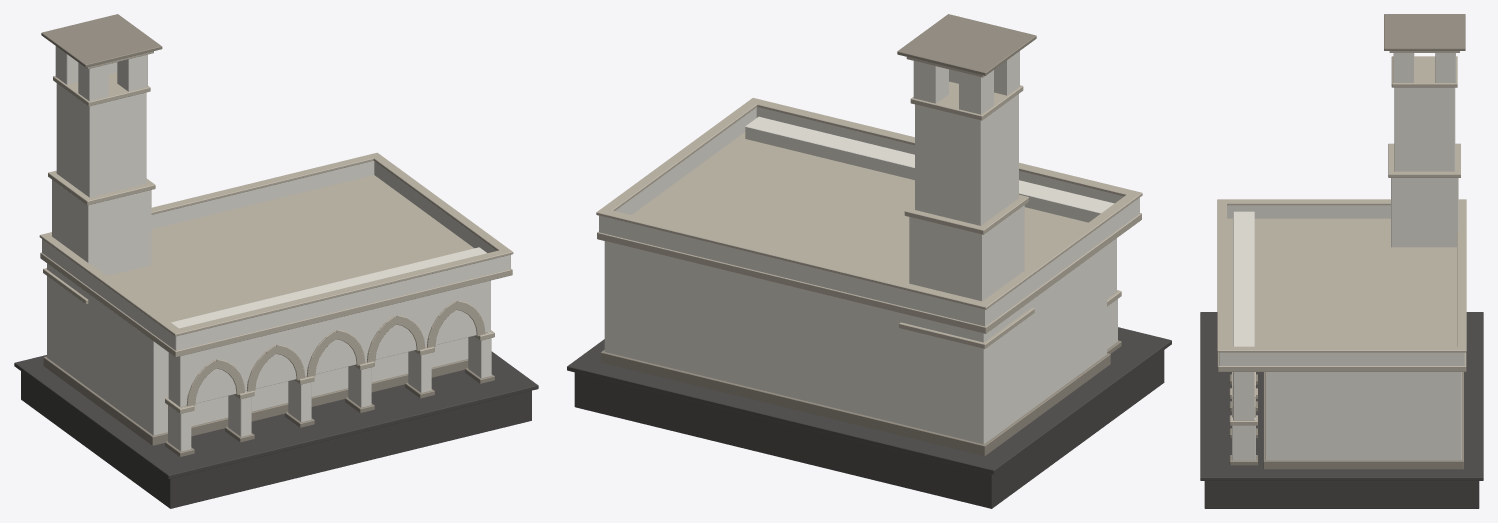
Rendered from TC_ENV_CivicHallSeafront_V1.glb.
3 renders of one model, left to right at view 1: azimuth 30°, elevation 25°; view 2: azimuth 150°, elevation 25°; view 3: azimuth 270°, elevation 25°, orthographic. The views are drawn at different scales.
Visible parts, largest first — view 1: TC_ENV_CivicHallSeafront_V1; view 2: TC_ENV_CivicHallSeafront_V1; view 3: TC_ENV_CivicHallSeafront_V1.
Part boxes in pixels (x1,y1,x2,y2): TC_ENV_CivicHallSeafront_V1: (14, 14, 538, 508); TC_ENV_CivicHallSeafront_V1: (567, 14, 1171, 508); TC_ENV_CivicHallSeafront_V1: (1200, 14, 1483, 508).
Bounding box in the file's own units: 18 × 17.17 × 13.
